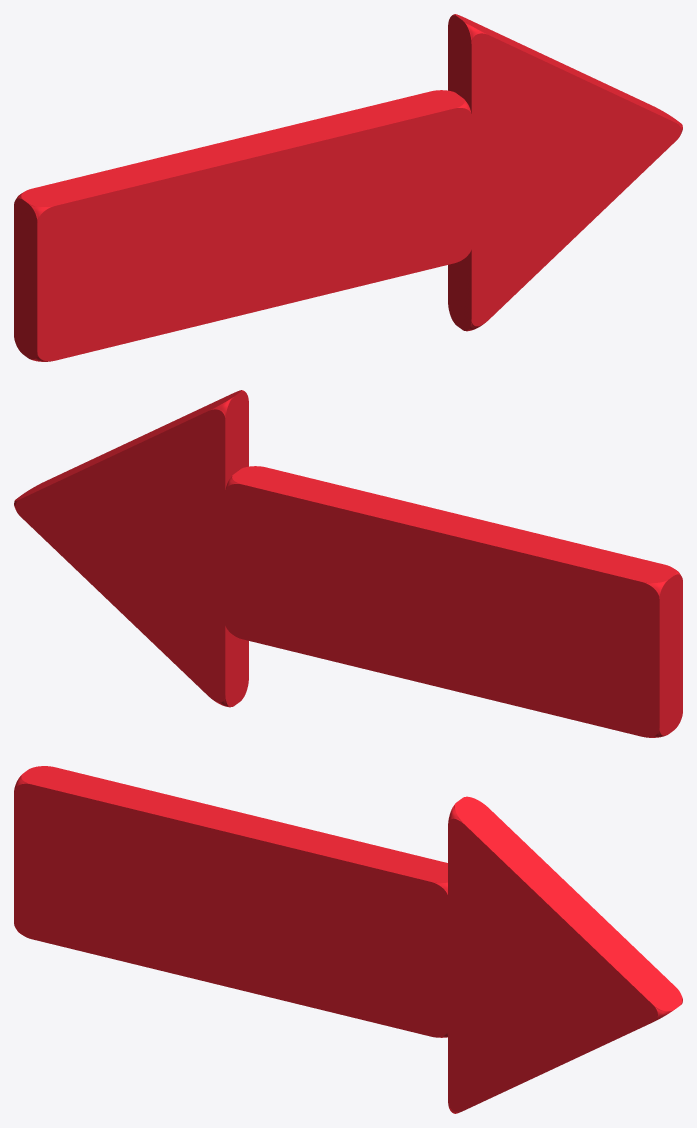
File: strzalka.fbx
3 views of the same model, one above another, from view 1: azimuth 30°, elevation 25°; view 2: azimuth 150°, elevation 25°; view 3: azimuth 330°, elevation 25° (orthographic).
Parts seen in each view (by area): view 1: strzalka; view 2: strzalka; view 3: strzalka.
Boxes of the visible parts, box(x1,y1,x2,y2) form: strzalka: box(14, 14, 682, 361); strzalka: box(14, 390, 682, 737); strzalka: box(14, 766, 682, 1113).
Size of the model in its own units: 150 by 68.07 by 9.36.
